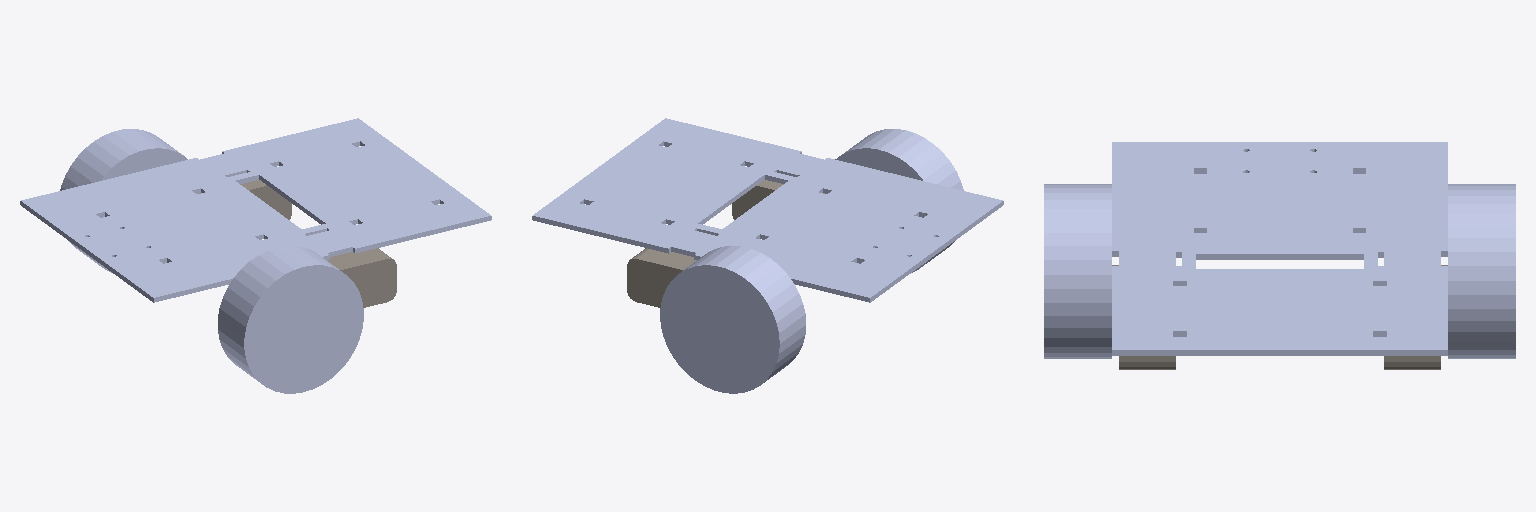
The robot description file, URDF, robot "arduino_car":
<?xml version="1.0" encoding="utf-8"?>
<!-- This URDF was automatically created by SolidWorks to URDF Exporter! Originally created by [author] ([email redacted]) 
     Commit Version: 1.6.0-4-g7f85cfe  Build Version: 1.6.7995.38578
     For more information, please see http://wiki.ros.org/sw_urdf_exporter -->
<robot
  name="arduino_car">
  <link
    name="base_link">
    <inertial>
      <origin
        xyz="-3.46944695195361E-18 3.68628738645072E-18 -0.00127"
        rpy="0 0 0" />
      <mass
        value="0.0569877915381237" />
      <inertia
        ixx="7.84770351241839E-05"
        ixy="-3.14208108330272E-10"
        ixz="2.78489323288408E-23"
        iyy="0.000171152712170539"
        iyz="-1.25259373056998E-22"
        izz="0.000249568470222075" />
    </inertial>
    <visual>
      <origin
        xyz="0 0 0"
        rpy="0 0 0" />
      <geometry>
        <mesh
          filename="package://arduino_car/meshes/base_link.STL" />
      </geometry>
      <material
        name="">
        <color
          rgba="0.792156862745098 0.819607843137255 0.933333333333333 1" />
      </material>
    </visual>
    <collision>
      <origin
        xyz="0 0 0"
        rpy="0 0 0" />
      <geometry>
        <mesh
          filename="package://arduino_car/meshes/base_link.STL" />
      </geometry>
    </collision>
  </link>
  <link
    name="left_actuator">
    <inertial>
      <origin
        xyz="-0.000504660947662716 -0.0107819464387979 3.46944695195361E-18"
        rpy="0 0 0" />
      <mass
        value="0.262946440650313" />
      <inertia
        ixx="2.19436701171615E-05"
        ixy="5.79687599956981E-07"
        ixz="3.28905755052471E-21"
        iyy="0.000140790157888514"
        iyz="-1.63578083145561E-21"
        izz="0.000140042263239691" />
    </inertial>
    <visual>
      <origin
        xyz="0 0 0"
        rpy="0 0 0" />
      <geometry>
        <mesh
          filename="package://arduino_car/meshes/left_actuator.STL" />
      </geometry>
      <material
        name="">
        <color
          rgba="0.647058823529412 0.619607843137255 0.588235294117647 1" />
      </material>
    </visual>
    <collision>
      <origin
        xyz="0 0 0"
        rpy="0 0 0" />
      <geometry>
        <mesh
          filename="package://arduino_car/meshes/left_actuator.STL" />
      </geometry>
    </collision>
  </link>
  <joint
    name="joint_left_actuator"
    type="fixed">
    <origin
      xyz="0.0050554 0.06096 -0.022225"
      rpy="0 0 0" />
    <parent
      link="base_link" />
    <child
      link="left_actuator" />
    <axis
      xyz="0 0 0" />
  </joint>
  <link
    name="left_wheel">
    <inertial>
      <origin
        xyz="-4.33680868994202E-18 -0.0126828683664394 -8.67361737988404E-19"
        rpy="0 0 0" />
      <mass
        value="0.0868235158113897" />
      <inertia
        ixx="2.83793049666763E-05"
        ixy="1.05613339744524E-20"
        ixz="-1.80592313751731E-37"
        iyy="4.74303737916179E-05"
        iyz="-7.09232262622493E-38"
        izz="2.83793049666763E-05" />
    </inertial>
    <visual>
      <origin
        xyz="0 0 0"
        rpy="0 0 0" />
      <geometry>
        <mesh
          filename="package://arduino_car/meshes/left_wheel.STL" />
      </geometry>
      <material
        name="">
        <color
          rgba="0.792156862745098 0.819607843137255 0.933333333333333 1" />
      </material>
    </visual>
    <collision>
      <origin
        xyz="0 0 0"
        rpy="0 0 0" />
      <geometry>
        <mesh
          filename="package://arduino_car/meshes/left_wheel.STL" />
      </geometry>
    </collision>
  </link>
  <joint
    name="joint_left_wheel"
    type="continuous">
    <origin
      xyz="-0.029303 0.02794 0"
      rpy="0 0 0" />
    <parent
      link="left_actuator" />
    <child
      link="left_wheel" />
    <axis
      xyz="0 1 0" />
    <limit
      effort="1"
      velocity="1" />
  </joint>
  <link
    name="right_actuator">
    <inertial>
      <origin
        xyz="-0.000504660947662709 0.0107819464387979 -1.73472347597681E-18"
        rpy="0 0 0" />
      <mass
        value="0.262946440650313" />
      <inertia
        ixx="2.19436701171615E-05"
        ixy="-5.79687599956873E-07"
        ixz="-2.49863060555046E-22"
        iyy="0.000140790157888514"
        iyz="1.16363163568489E-21"
        izz="0.000140042263239691" />
    </inertial>
    <visual>
      <origin
        xyz="0 0 0"
        rpy="0 0 0" />
      <geometry>
        <mesh
          filename="package://arduino_car/meshes/right_actuator.STL" />
      </geometry>
      <material
        name="">
        <color
          rgba="0.647058823529412 0.619607843137255 0.588235294117647 1" />
      </material>
    </visual>
    <collision>
      <origin
        xyz="0 0 0"
        rpy="0 0 0" />
      <geometry>
        <mesh
          filename="package://arduino_car/meshes/right_actuator.STL" />
      </geometry>
    </collision>
  </link>
  <joint
    name="joint_right_actuator"
    type="fixed">
    <origin
      xyz="0.00505543453695816 -0.06096 -0.022225"
      rpy="0 0 0" />
    <parent
      link="base_link" />
    <child
      link="right_actuator" />
    <axis
      xyz="0 0 0" />
  </joint>
  <link
    name="right_wheel">
    <inertial>
      <origin
        xyz="3.46944695195361E-18 0.0126828683664394 -2.60208521396521E-18"
        rpy="0 0 0" />
      <mass
        value="0.0868235158113896" />
      <inertia
        ixx="2.83793049666763E-05"
        ixy="1.0880344281002E-20"
        ixz="-2.03445428163645E-21"
        iyy="4.74303737916179E-05"
        iyz="-7.52199855790826E-22"
        izz="2.83793049666763E-05" />
    </inertial>
    <visual>
      <origin
        xyz="0 0 0"
        rpy="0 0 0" />
      <geometry>
        <mesh
          filename="package://arduino_car/meshes/right_wheel.STL" />
      </geometry>
      <material
        name="">
        <color
          rgba="0.792156862745098 0.819607843137255 0.933333333333333 1" />
      </material>
    </visual>
    <collision>
      <origin
        xyz="0 0 0"
        rpy="0 0 0" />
      <geometry>
        <mesh
          filename="package://arduino_car/meshes/right_wheel.STL" />
      </geometry>
    </collision>
  </link>
  <joint
    name="joint_left_wheel"
    type="revolute">
    <origin
      xyz="-0.029303 -0.02794 0"
      rpy="0 0 0" />
    <parent
      link="right_actuator" />
    <child
      link="right_wheel" />
    <axis
      xyz="0 -1 0" />
    <limit
      lower="0"
      upper="0"
      effort="1"
      velocity="1" />
  </joint>
</robot>

--- What the picture shows (computed from the rendered views, not written in the file) ---
Views: 3 orthographic renders of the robot side by side, from view 1: azimuth 30°, elevation 25°; view 2: azimuth 150°, elevation 25°; view 3: azimuth 270°, elevation 25°.
Model arduino_car with 5 links and 4 joints (1 revolute, 1 continuous, 2 fixed), rooted at base_link, posed every joint at zero.
Visible links, largest first — view 1: base_link, right_wheel, left_wheel, right_actuator, left_actuator; view 2: base_link, left_wheel, right_wheel, left_actuator, right_actuator; view 3: base_link, left_wheel, right_wheel, left_actuator, right_actuator.
Link boxes in pixels (x1,y1,x2,y2): base_link: (20, 118, 491, 302); right_wheel: (218, 246, 363, 393); left_wheel: (60, 129, 187, 272); right_actuator: (327, 248, 396, 307); left_actuator: (199, 180, 291, 219); base_link: (532, 118, 1003, 302); left_wheel: (660, 246, 805, 393); right_wheel: (835, 129, 963, 272); left_actuator: (627, 248, 696, 307); right_actuator: (732, 180, 824, 219); base_link: (1112, 142, 1447, 355); left_wheel: (1448, 184, 1515, 358); right_wheel: (1044, 184, 1111, 358); left_actuator: (1384, 265, 1447, 369); right_actuator: (1112, 265, 1175, 369).
Bounding box of the posed robot: 0.1862 × 0.1778 × 0.066 m (x, y, z).
Meshes: 5 distinct files referenced, 5 mesh visuals loaded (5 binary STL).
